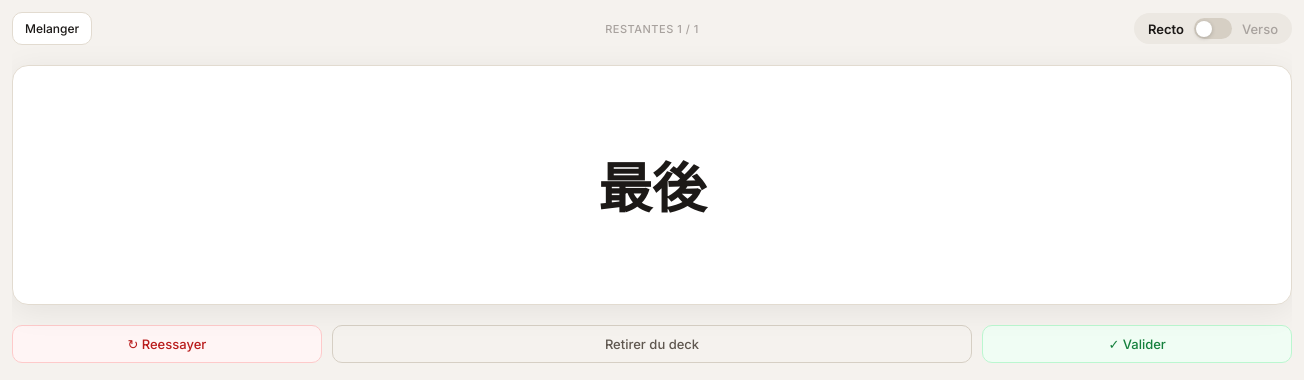
Test: ClassicMode regressions › keeps swipe working on the last remaining card
Press the mouse on the text "最後" at x=652, y=185, box [598,153,706,217]
Wait 250 ms
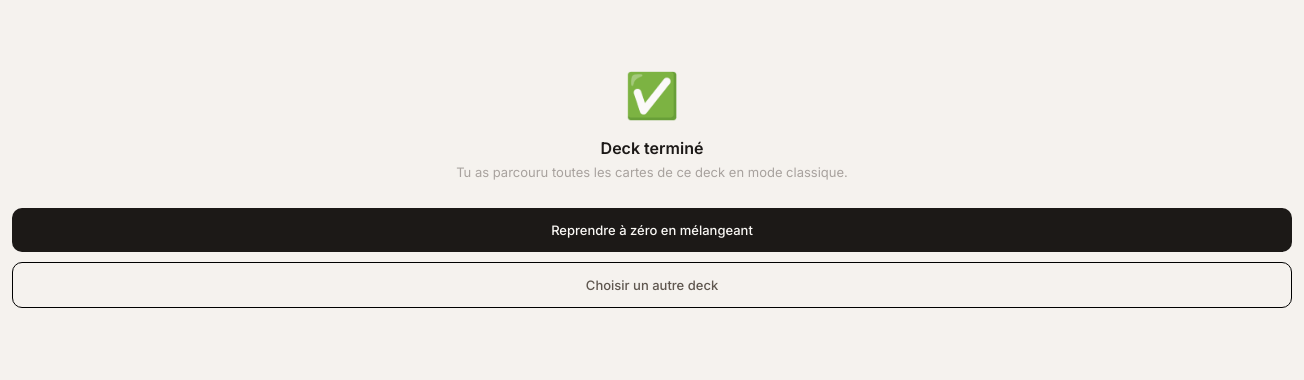
Expected: the text "Deck terminé" is shown, [601,138,703,158]
